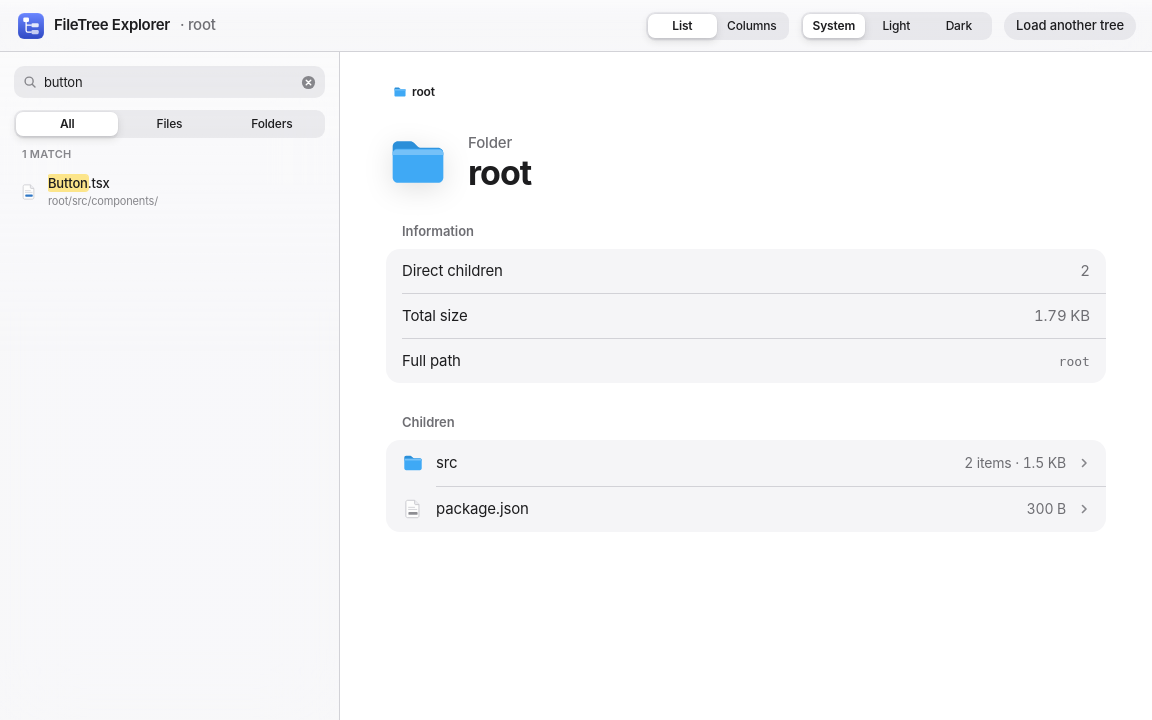
searching by name › returns to the tree once the search is cleared
Click the button named "Clear search" at [308, 82], box [297,71,319,93]
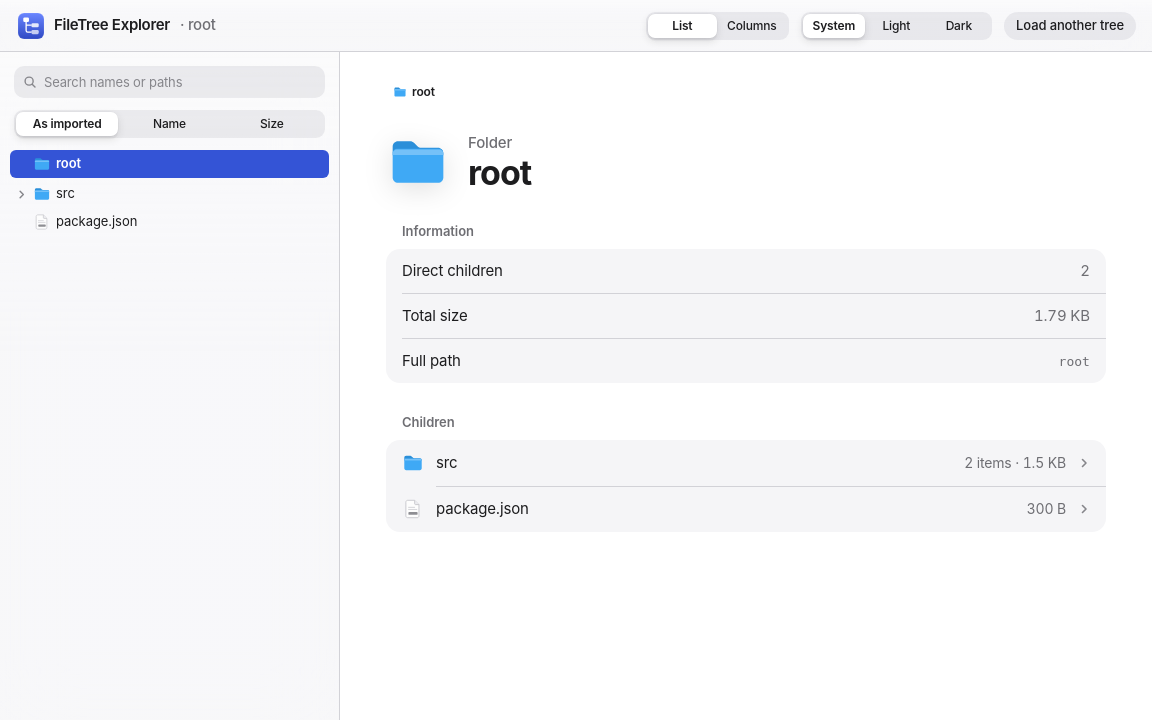
Result: the search field named "Search by name" is empty at [14,66,325,98]
Result: the list "src package.json" is shown at [12,185,137,231]
